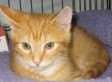Cat: (0, 6, 88, 79)
